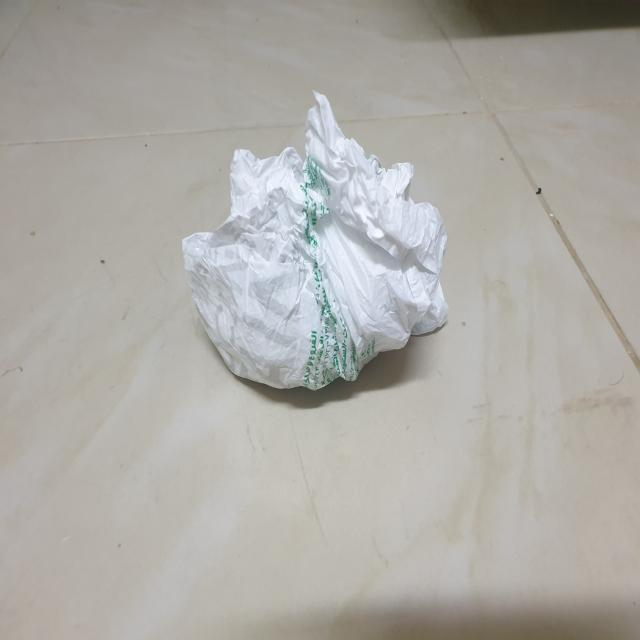Plastic_Bag: (172, 78, 456, 406)
